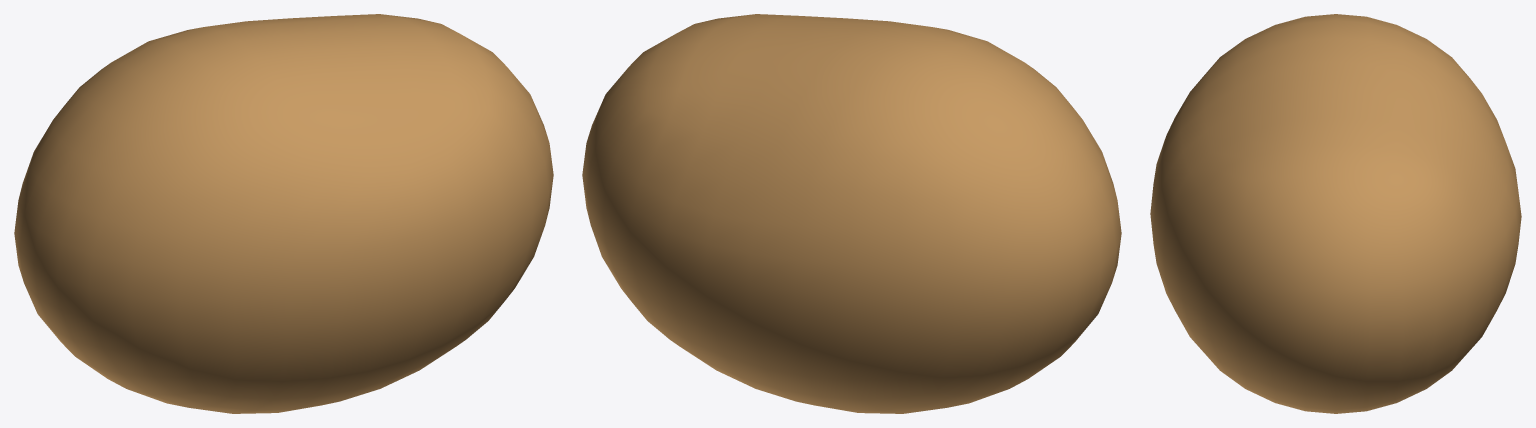
Rendered from potato.fbx.
3 views of the same model, side by side, from view 1: azimuth 30°, elevation 25°; view 2: azimuth 150°, elevation 25°; view 3: azimuth 270°, elevation 25° (orthographic). The views are drawn at different scales.
Visible parts, largest first — view 1: Roundcube; view 2: Roundcube; view 3: Roundcube.
Part boxes in pixels (<box>): Roundcube: <box>14,14,553,413</box>; Roundcube: <box>582,14,1121,413</box>; Roundcube: <box>1150,14,1521,413</box>.
Bounding box in the file's own units: 133 × 92 × 95.5.
